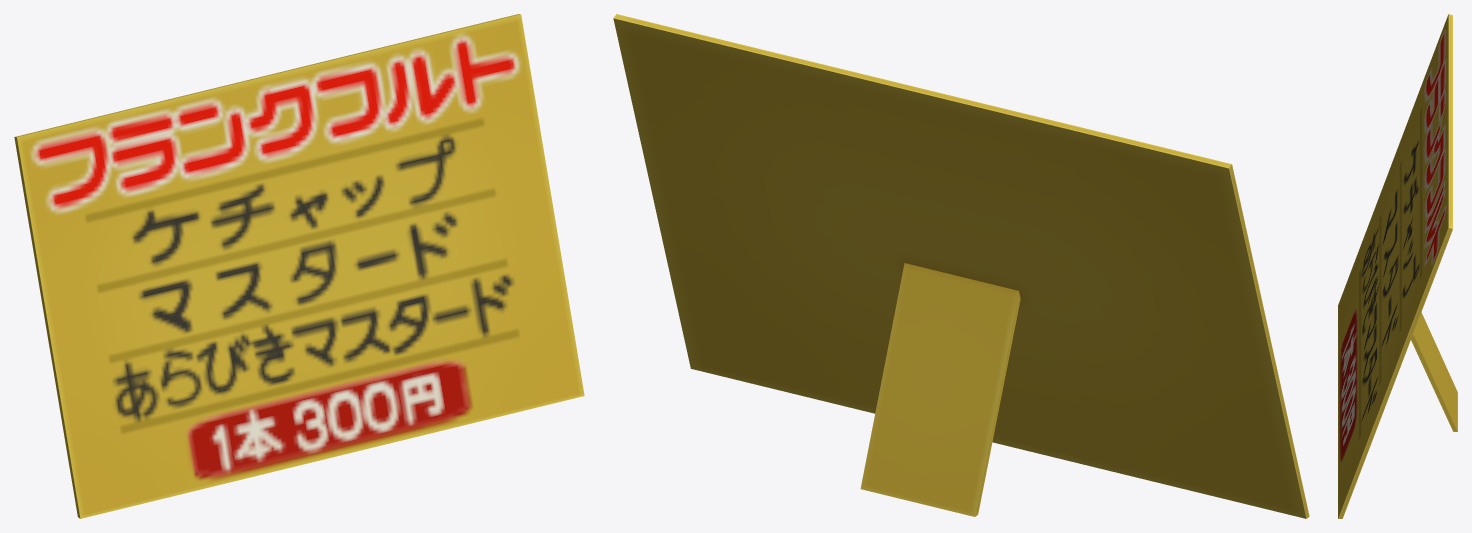
The model's file is jsf_Flyer_Frankfurt_10.fbx.
The picture shows the model from 3 angles, left to right: view 1: azimuth 30°, elevation 25°; view 2: azimuth 150°, elevation 25°; view 3: azimuth 270°, elevation 25°; orthographic projection. The views are drawn at different scales.
Parts seen in each view (by area): view 1: jsf_Flyer_Frankfurt_10; view 2: jsf_Flyer_Frankfurt_10; view 3: jsf_Flyer_Frankfurt_10.
Part boxes in pixels (<box>): jsf_Flyer_Frankfurt_10: <box>14,14,584,518</box>; jsf_Flyer_Frankfurt_10: <box>613,14,1309,518</box>; jsf_Flyer_Frankfurt_10: <box>1338,14,1457,518</box>.
Bounding box in the file's own units: 48.24 × 30.64 × 11.42.
